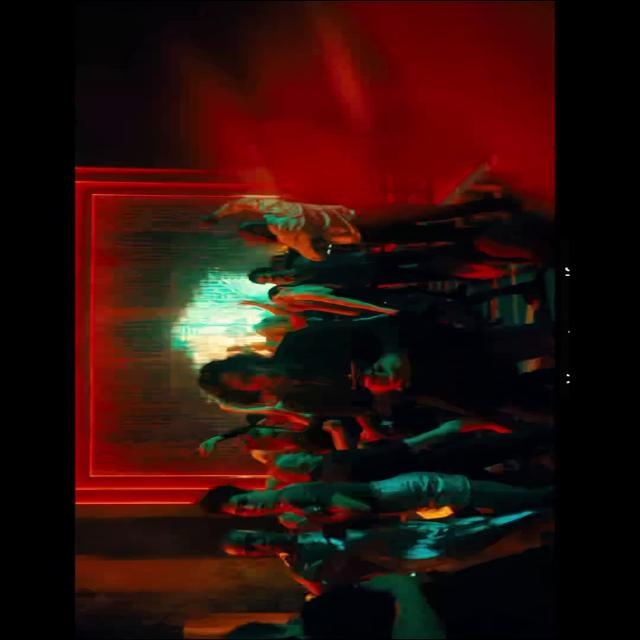weapons: (332, 357, 412, 398)
